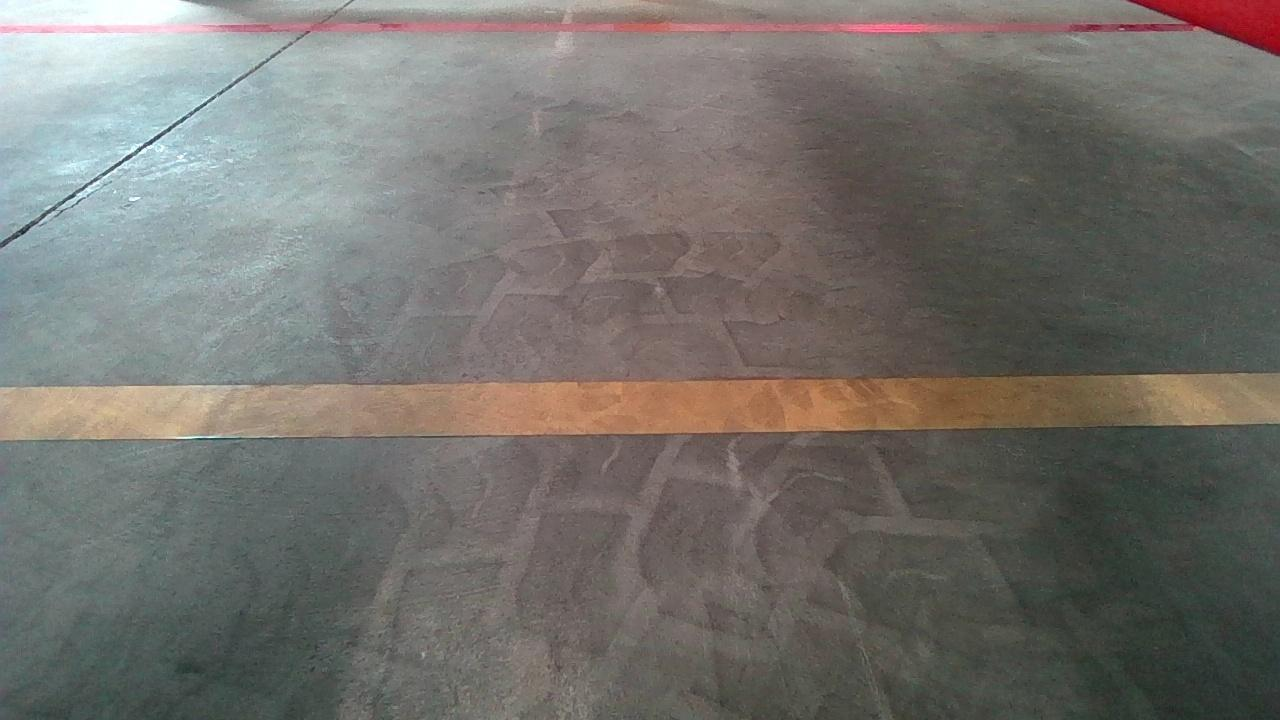red_line: (15, 21, 1164, 35)
yellow_line: (5, 368, 1280, 438)
